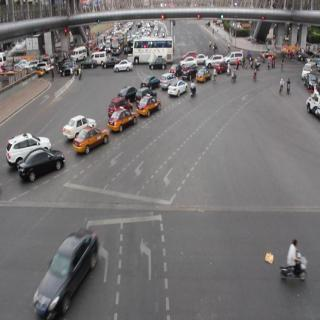BigCar: (133, 37, 174, 61)
Car: (33, 228, 99, 317), (19, 147, 65, 181), (6, 133, 50, 162), (108, 108, 138, 136), (74, 129, 109, 152), (63, 115, 96, 136), (136, 96, 162, 120), (167, 80, 188, 100), (114, 58, 133, 76), (148, 54, 167, 72), (119, 83, 137, 100), (227, 49, 243, 68), (196, 64, 211, 84), (143, 74, 159, 90), (208, 52, 222, 67), (182, 62, 194, 78), (170, 58, 179, 74)
